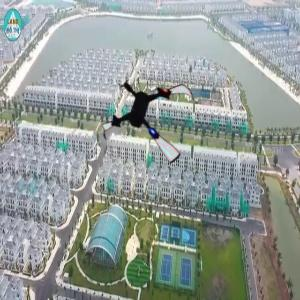drone: (101, 69, 203, 171)
